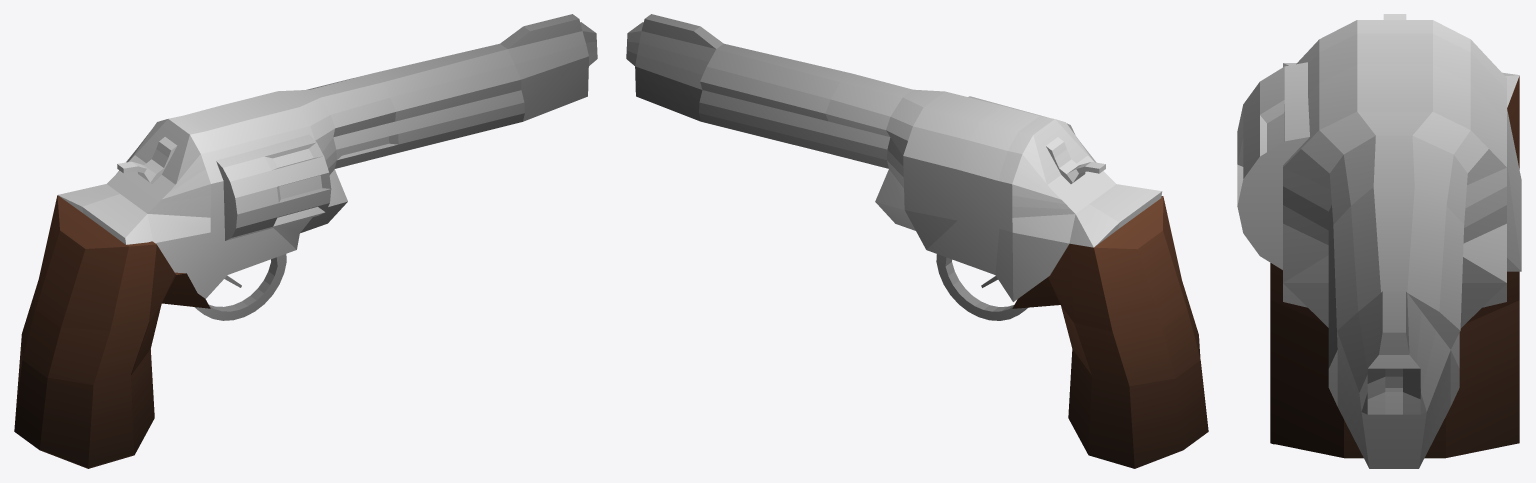
Rendered from Revolver.fbx.
3 renders of one model, left to right at view 1: azimuth 30°, elevation 25°; view 2: azimuth 150°, elevation 25°; view 3: azimuth 270°, elevation 25°, orthographic. The views are drawn at different scales.
Visible parts, largest first — view 1: Cylinder; view 2: Cylinder; view 3: Cylinder.
Boxes of the visible parts, left/top/right/bottom form: Cylinder: left=14, top=14, right=597, bottom=468; Cylinder: left=626, top=14, right=1208, bottom=468; Cylinder: left=1237, top=14, right=1521, bottom=468.
Bounding box in the file's own units: 481 × 244 × 121.
2 materials, 2 textured.
